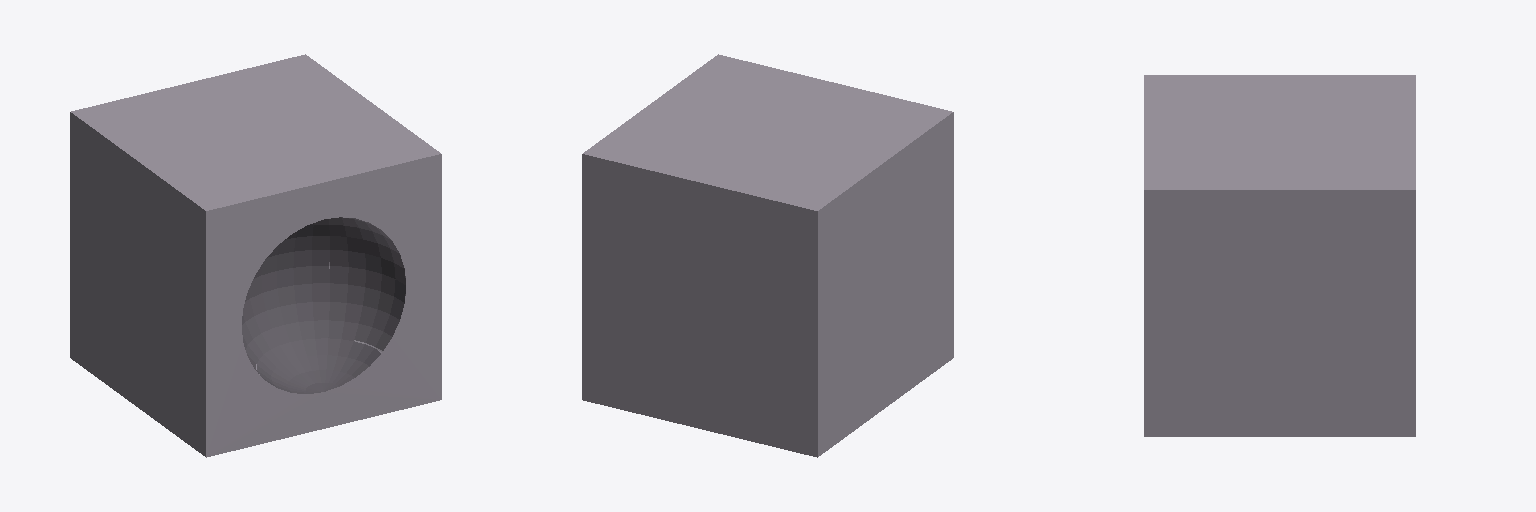
3 views of the same model, side by side, from view 1: azimuth 30°, elevation 25°; view 2: azimuth 150°, elevation 25°; view 3: azimuth 270°, elevation 25° (orthographic).
Parts seen in each view (by area): view 1: 立方体; view 2: 立方体; view 3: 立方体.
Part boxes in pixels (x1,y1,x2,y2): 立方体: (70,54,441,457); 立方体: (582,54,953,457); 立方体: (1144,75,1415,436).
Size of the model in its own units: 2 by 2 by 2.
Materials: 1 (1 with a texture image).